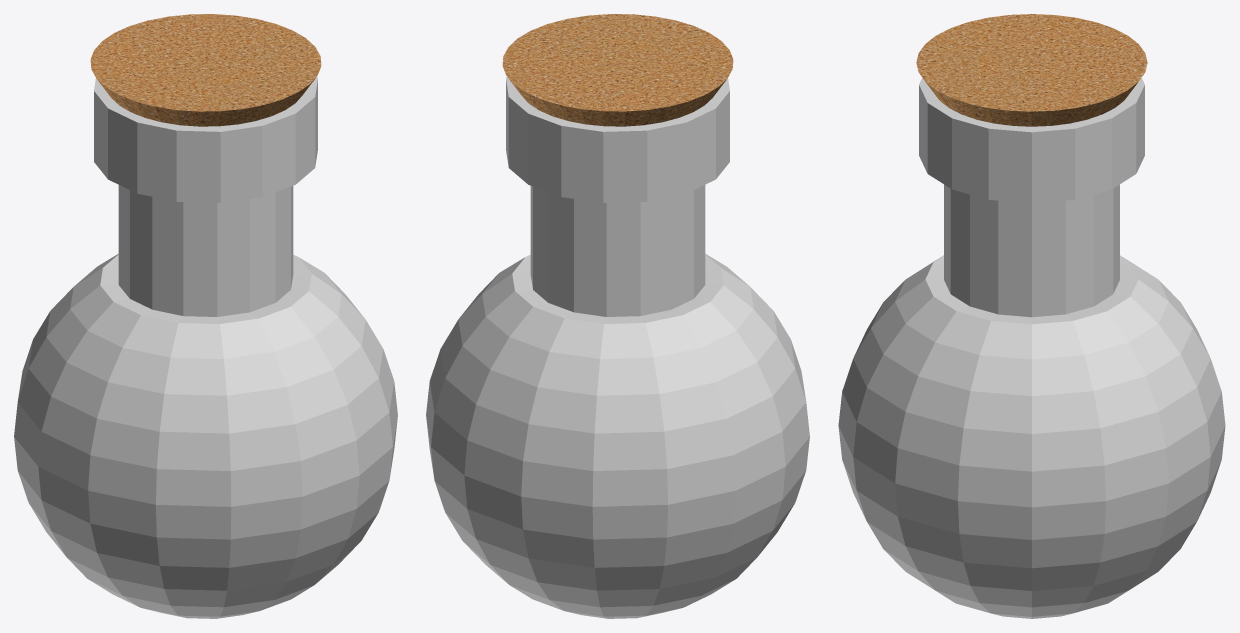
The model's file is hp_pot.fbx.
The picture shows the model from 3 angles, left to right: view 1: azimuth 30°, elevation 25°; view 2: azimuth 150°, elevation 25°; view 3: azimuth 270°, elevation 25°; orthographic projection.
Visible parts, largest first — view 1: Sphere.001, Circle; view 2: Sphere.001, Circle; view 3: Sphere.001, Circle.
Boxes of the visible parts, box(x1,y1,x2,y2) form: Sphere.001: box(14, 77, 397, 618); Circle: box(90, 14, 321, 126); Sphere.001: box(426, 77, 809, 618); Circle: box(502, 14, 733, 126); Sphere.001: box(838, 78, 1225, 618); Circle: box(916, 14, 1147, 126).
Size of the model in its own units: 335 by 513 by 335.
